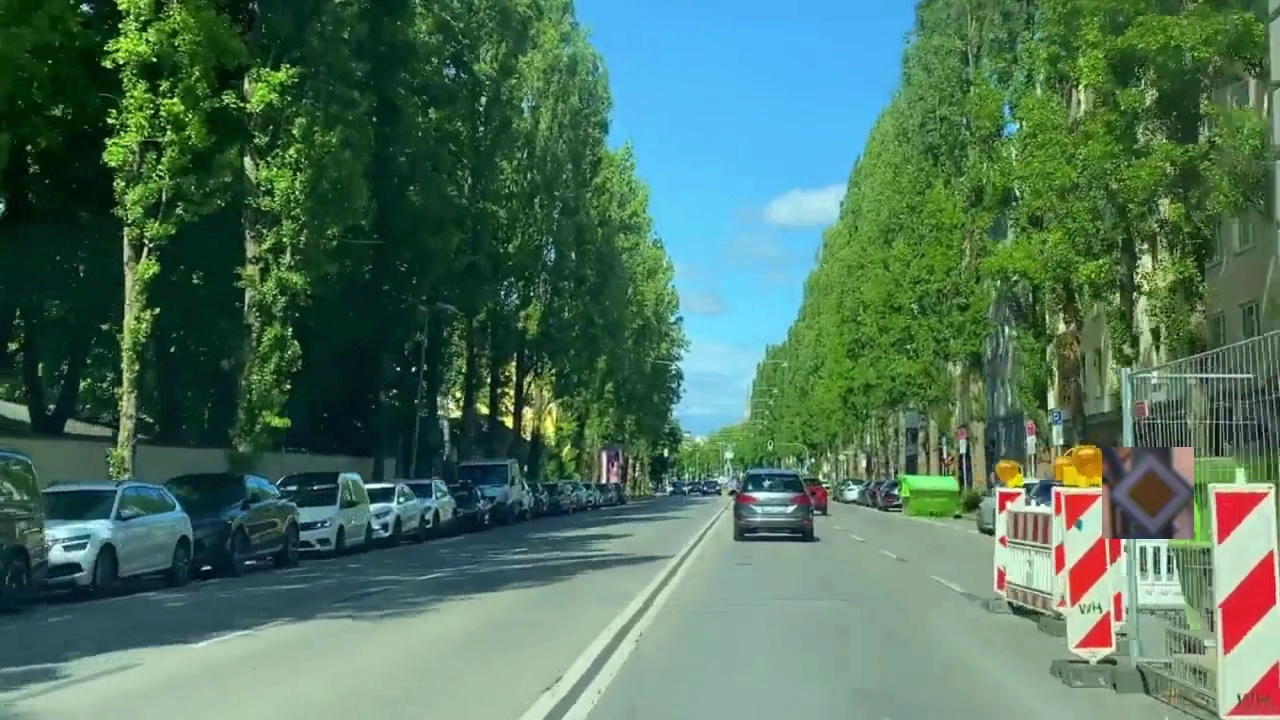Priority road: (1102, 447, 1194, 539)
